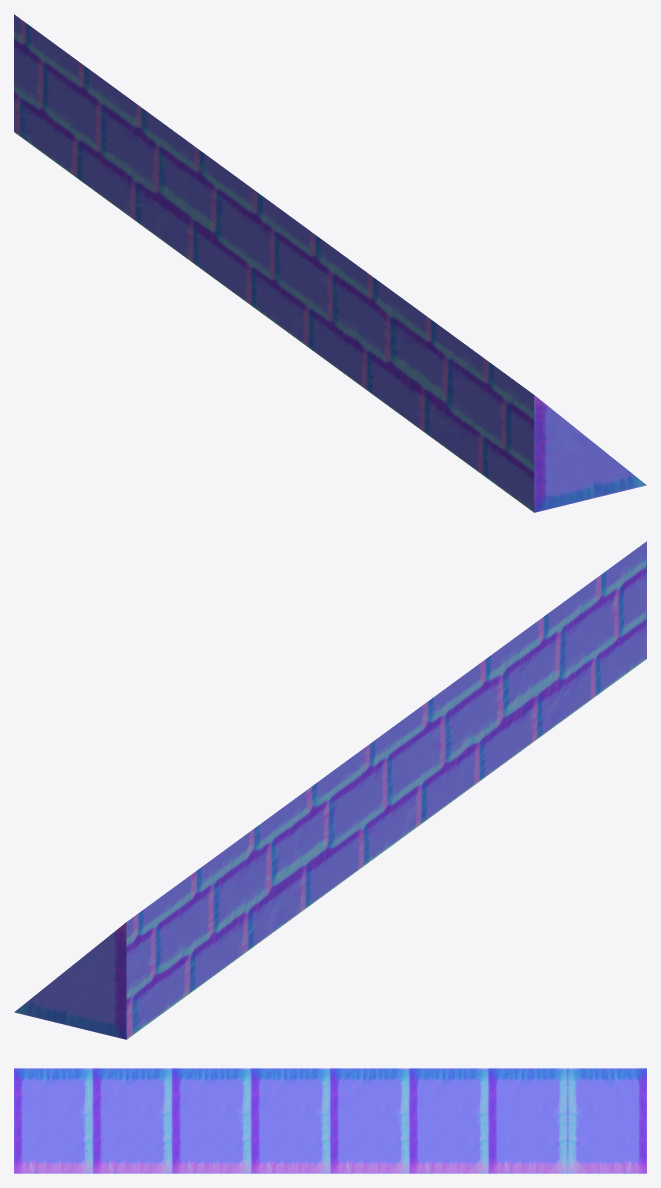
The model's file is sm_wall_top_02.fbx.
3 views of the same model, one above another, from view 1: azimuth 30°, elevation 25°; view 2: azimuth 150°, elevation 25°; view 3: azimuth 270°, elevation 25° (orthographic). The views are drawn at different scales.
Parts seen in each view (by area): view 1: sm_wall_top_02; view 2: sm_wall_top_02; view 3: sm_wall_top_02.
Boxes of the visible parts, box(x1,y1,x2,y2) form: sm_wall_top_02: box(14, 14, 646, 512); sm_wall_top_02: box(14, 541, 646, 1039); sm_wall_top_02: box(14, 1068, 646, 1173).
Bounding box in the file's own units: 50 × 50 × 400.
